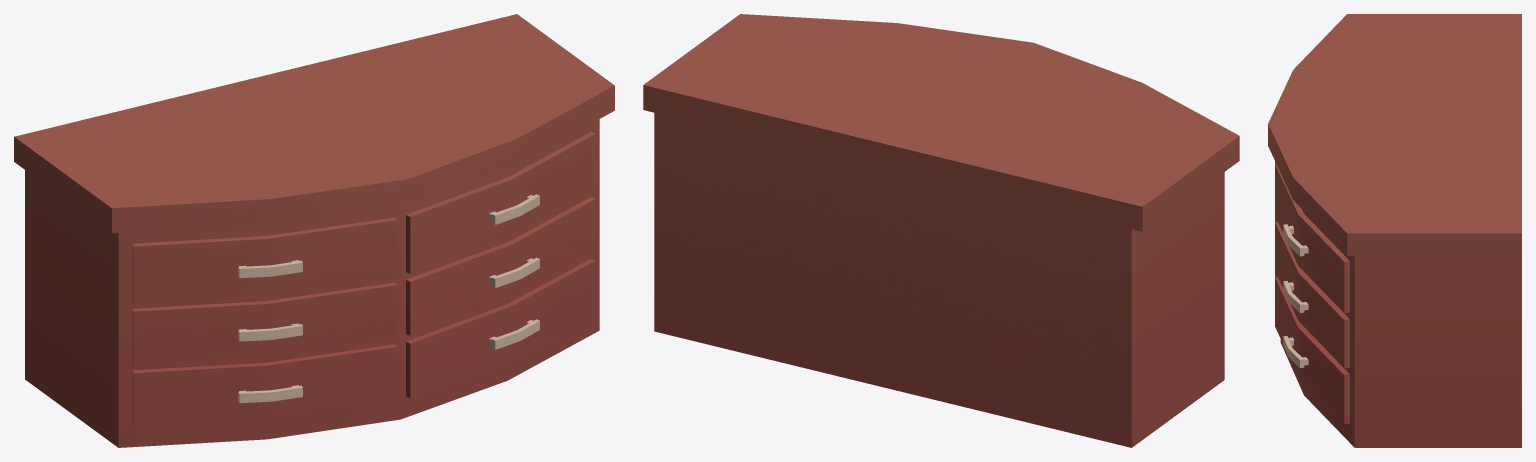
Rendered from SM_Shelf_Round_1_04.fbx.
3 views of the same model, side by side, from view 1: azimuth 30°, elevation 25°; view 2: azimuth 150°, elevation 25°; view 3: azimuth 270°, elevation 25° (orthographic). The views are drawn at different scales.
Visible parts, largest first — view 1: SM_Shelf_Round_1_04; view 2: SM_Shelf_Round_1_04; view 3: SM_Shelf_Round_1_04.
Part boxes in pixels (left/top/right/bottom): SM_Shelf_Round_1_04: left=14, top=14, right=614, bottom=447; SM_Shelf_Round_1_04: left=643, top=14, right=1239, bottom=447; SM_Shelf_Round_1_04: left=1268, top=14, right=1521, bottom=447.
Size of the model in its own units: 224 by 105 by 110.
